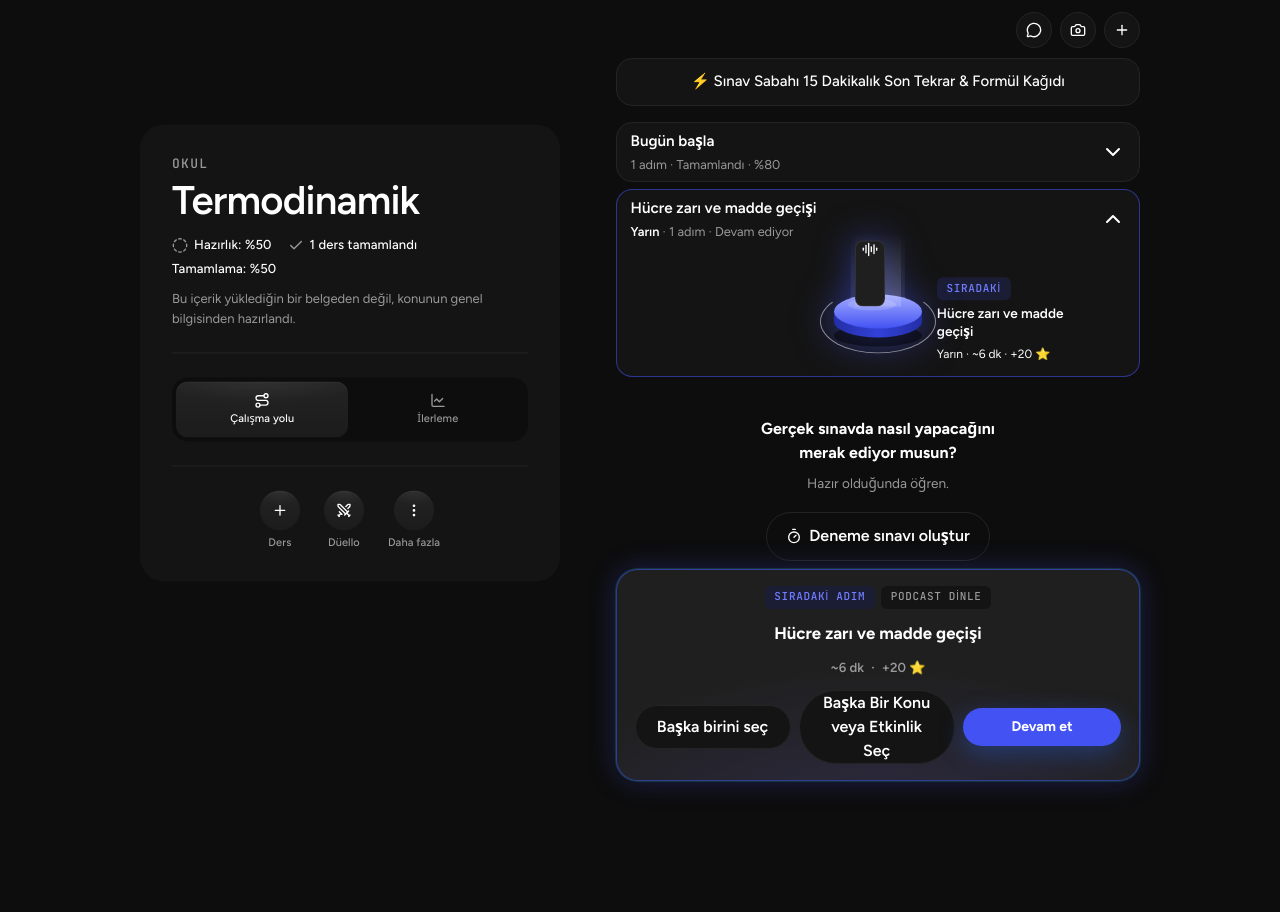
Test: path labels like Astra › titles a generic next activity with its topic and shows the done score
The width and height of the screenshot is (1280, 912).
Expected: the heading "Hücre zarı ve madde geçişi" is shown, [774,623,982,643]
Click the button "Bugün başla 1 adım · Tamamlandı · %80" at (672, 141), box [617,123,1139,181]
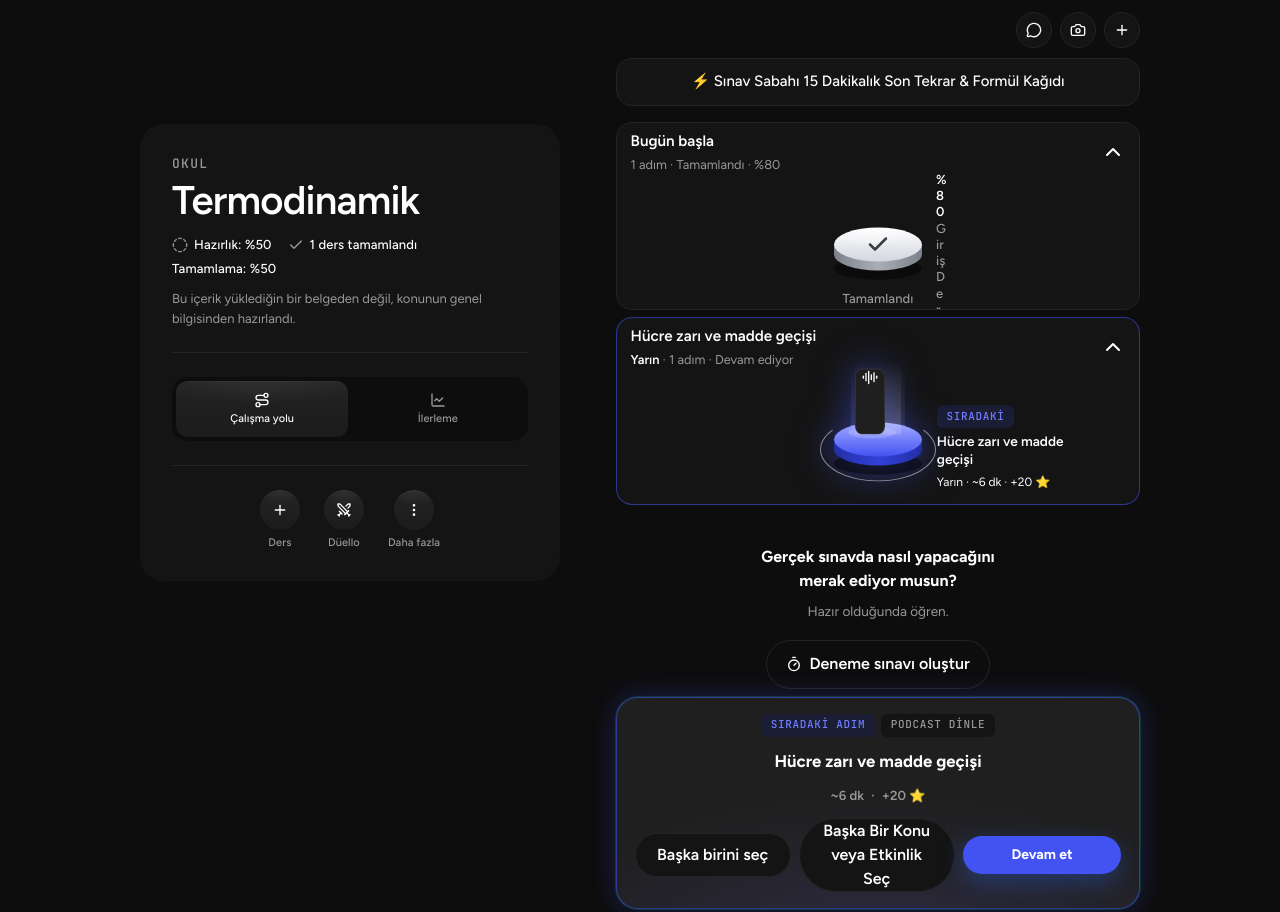
Expected: the button "Başka birini seç" is shown, [635,833,791,877]
Expected: the button named "Giriş Dersi · Giriş Dersi, tamamlandı, %80" is shown, [832,219,924,281]
